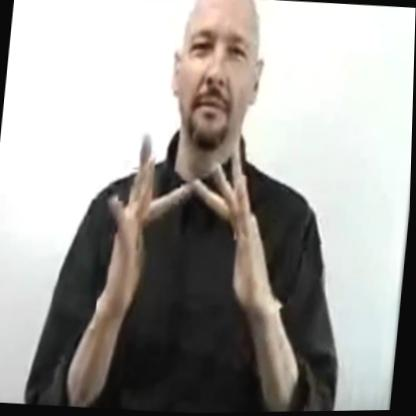Internet: (98, 124, 287, 327)
